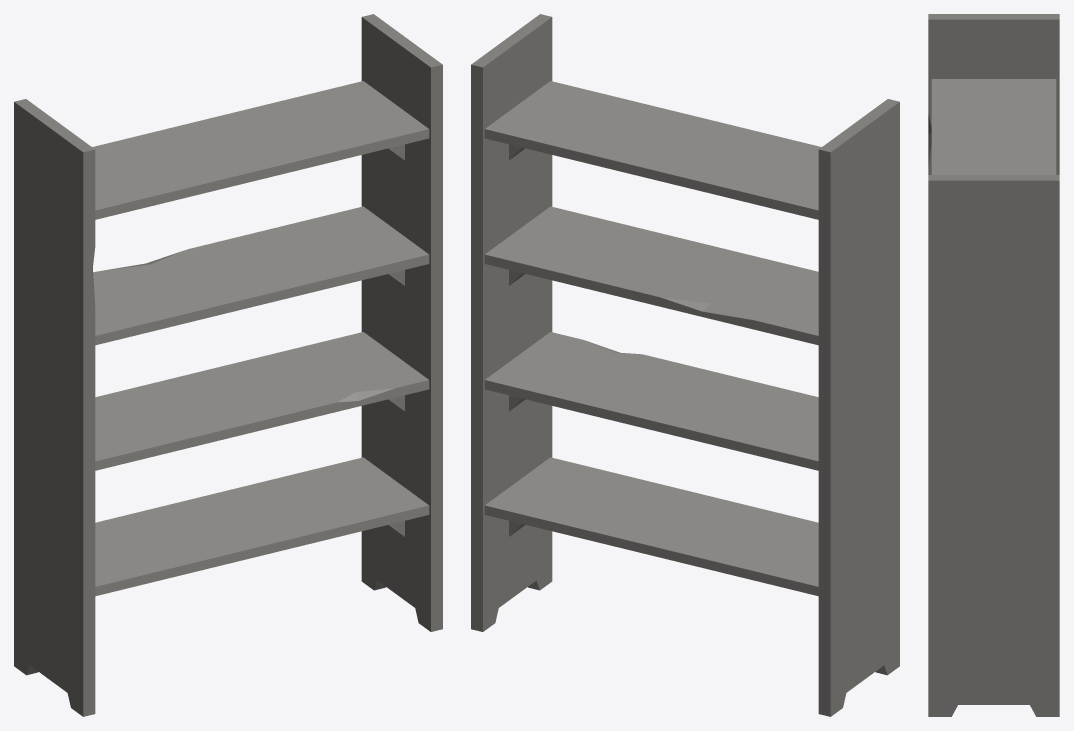
The model's file is SM_Props_Interior_Shop_Restaurant_Kitchen_Shelve.fbx.
3 renders of one model, left to right at view 1: azimuth 30°, elevation 25°; view 2: azimuth 150°, elevation 25°; view 3: azimuth 270°, elevation 25°, orthographic. The views are drawn at different scales.
Visible parts, largest first — view 1: SM_Props_Interior_Shop_Restaurant_Kitchen_Shelve; view 2: SM_Props_Interior_Shop_Restaurant_Kitchen_Shelve; view 3: SM_Props_Interior_Shop_Restaurant_Kitchen_Shelve.
Part boxes in pixels (left/top/right/bottom): SM_Props_Interior_Shop_Restaurant_Kitchen_Shelve: left=14, top=14, right=442, bottom=716; SM_Props_Interior_Shop_Restaurant_Kitchen_Shelve: left=471, top=14, right=899, bottom=716; SM_Props_Interior_Shop_Restaurant_Kitchen_Shelve: left=928, top=14, right=1059, bottom=716.
Bounding box in the file's own units: 120 × 180 × 40.
